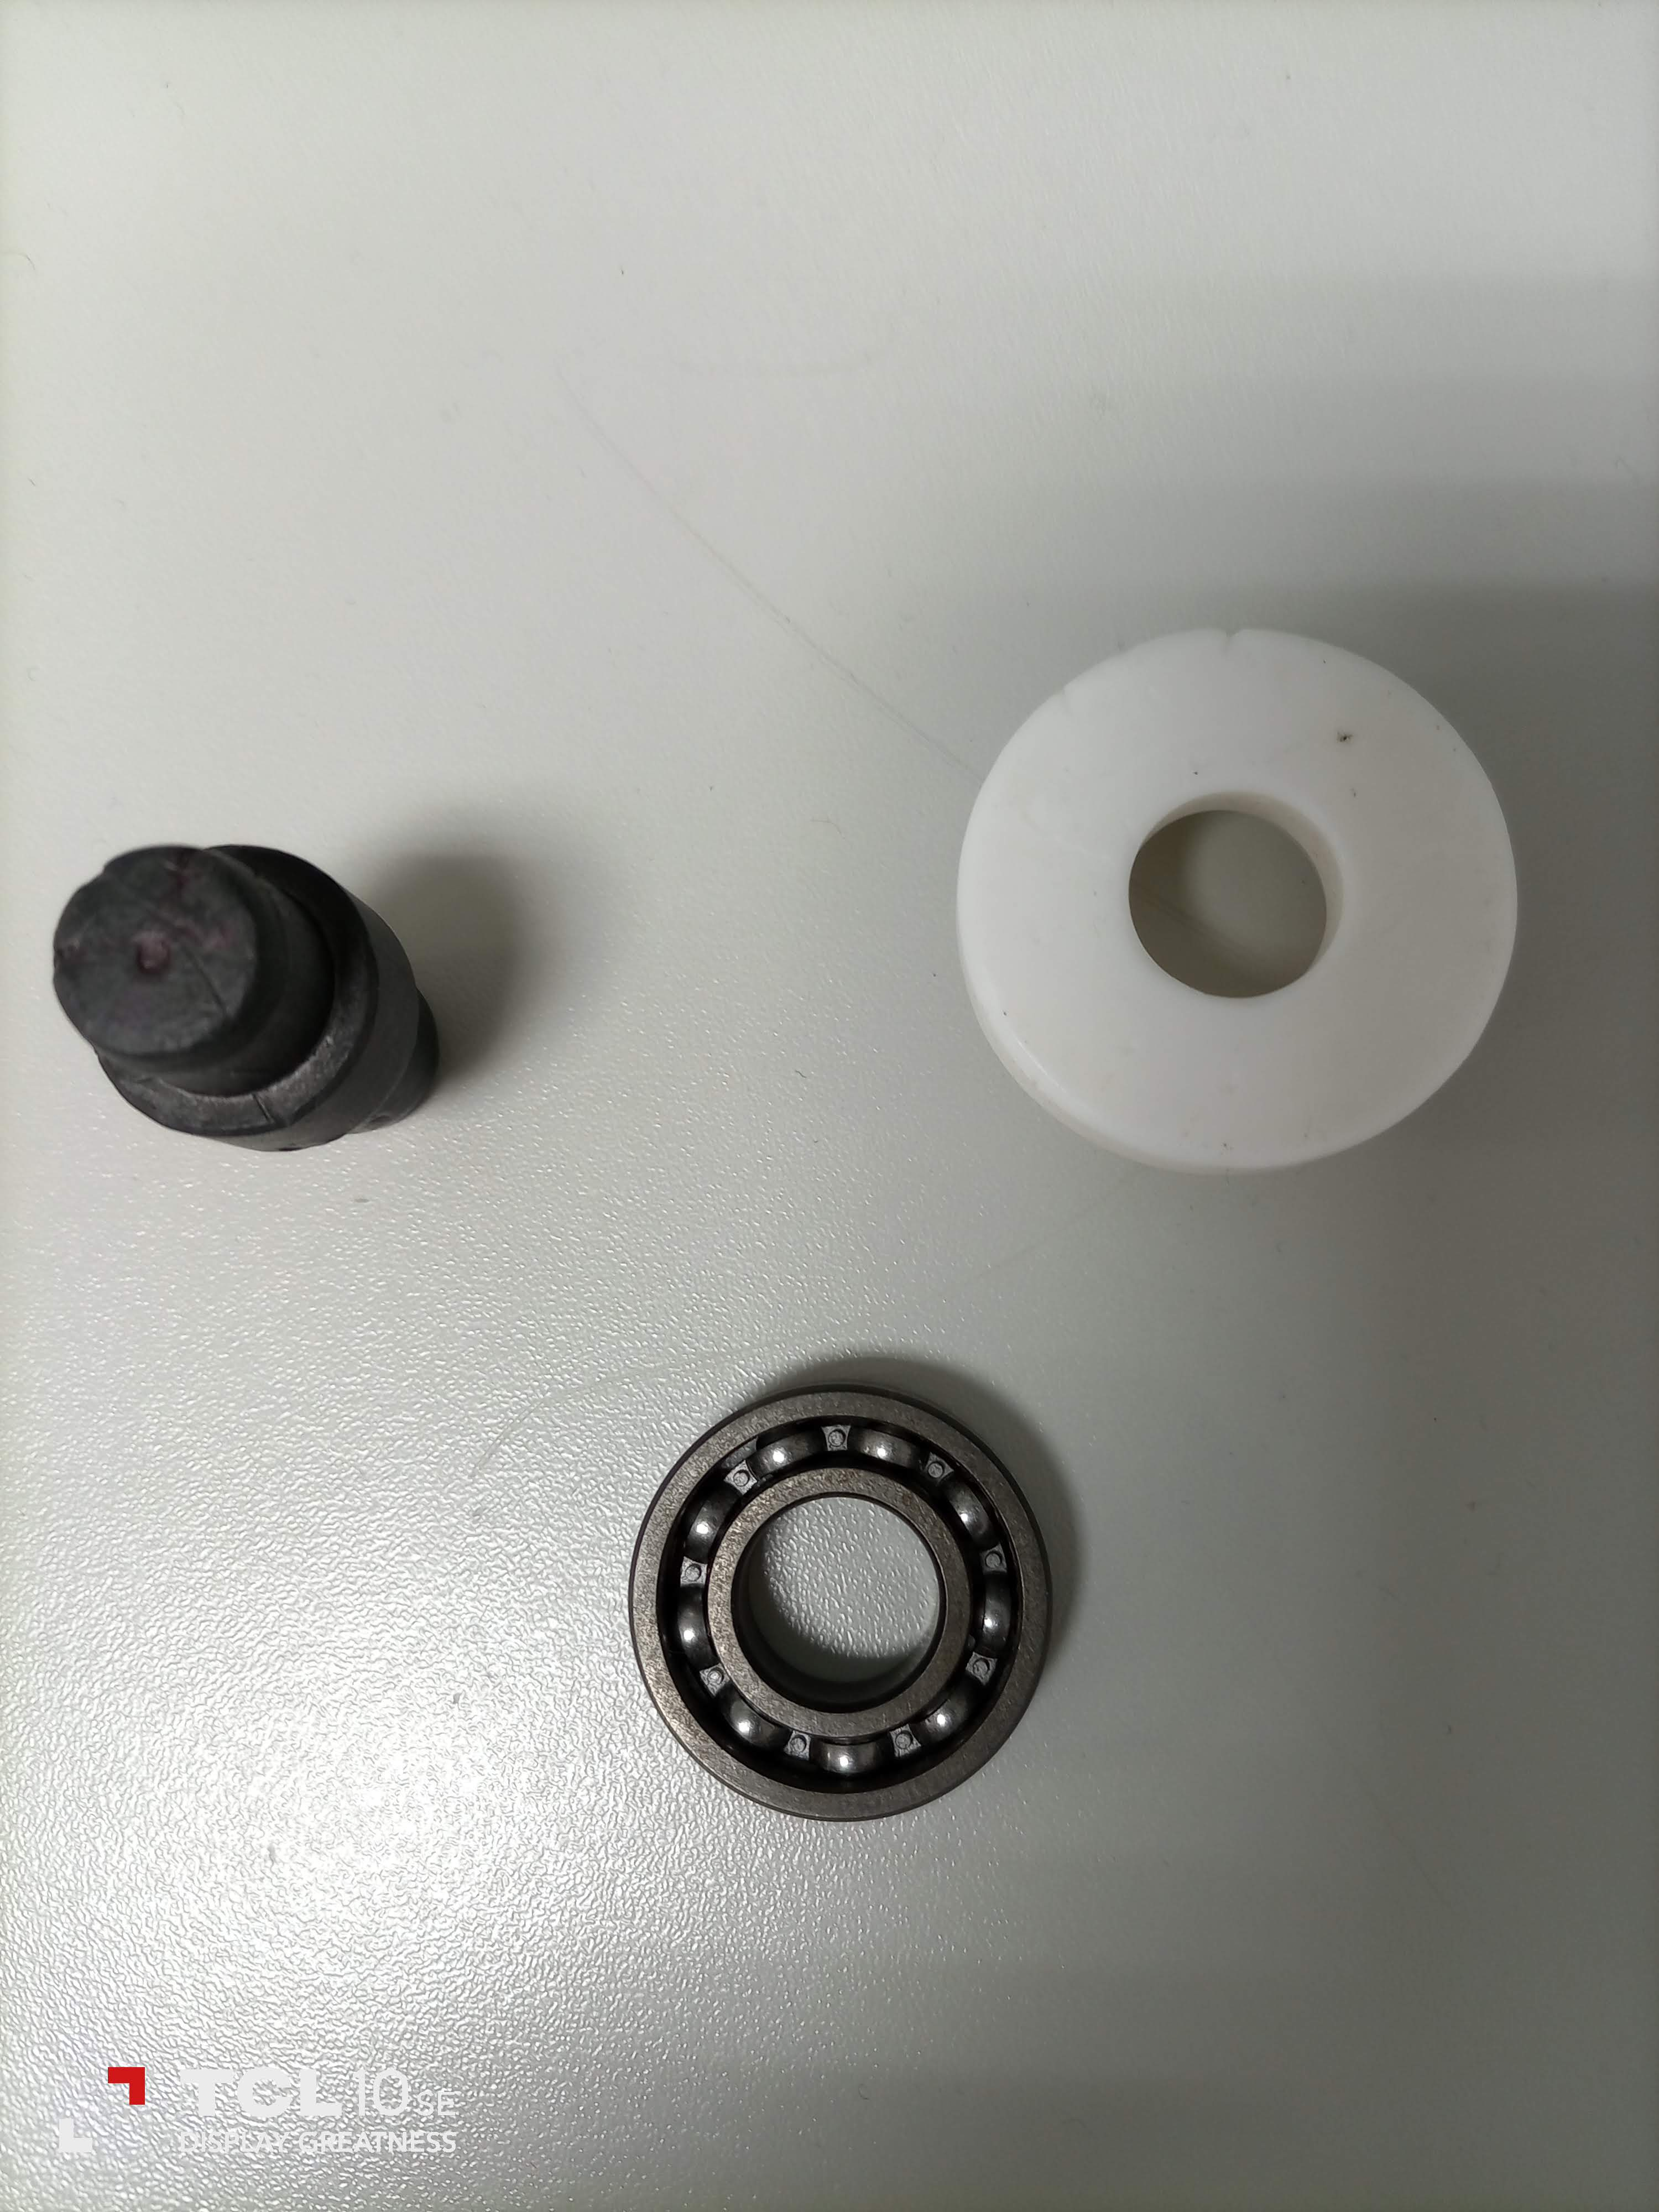Ardatza: (40, 810, 467, 1120)
Roda: (622, 1367, 1051, 1813)
Tapa: (951, 594, 1560, 1191)
